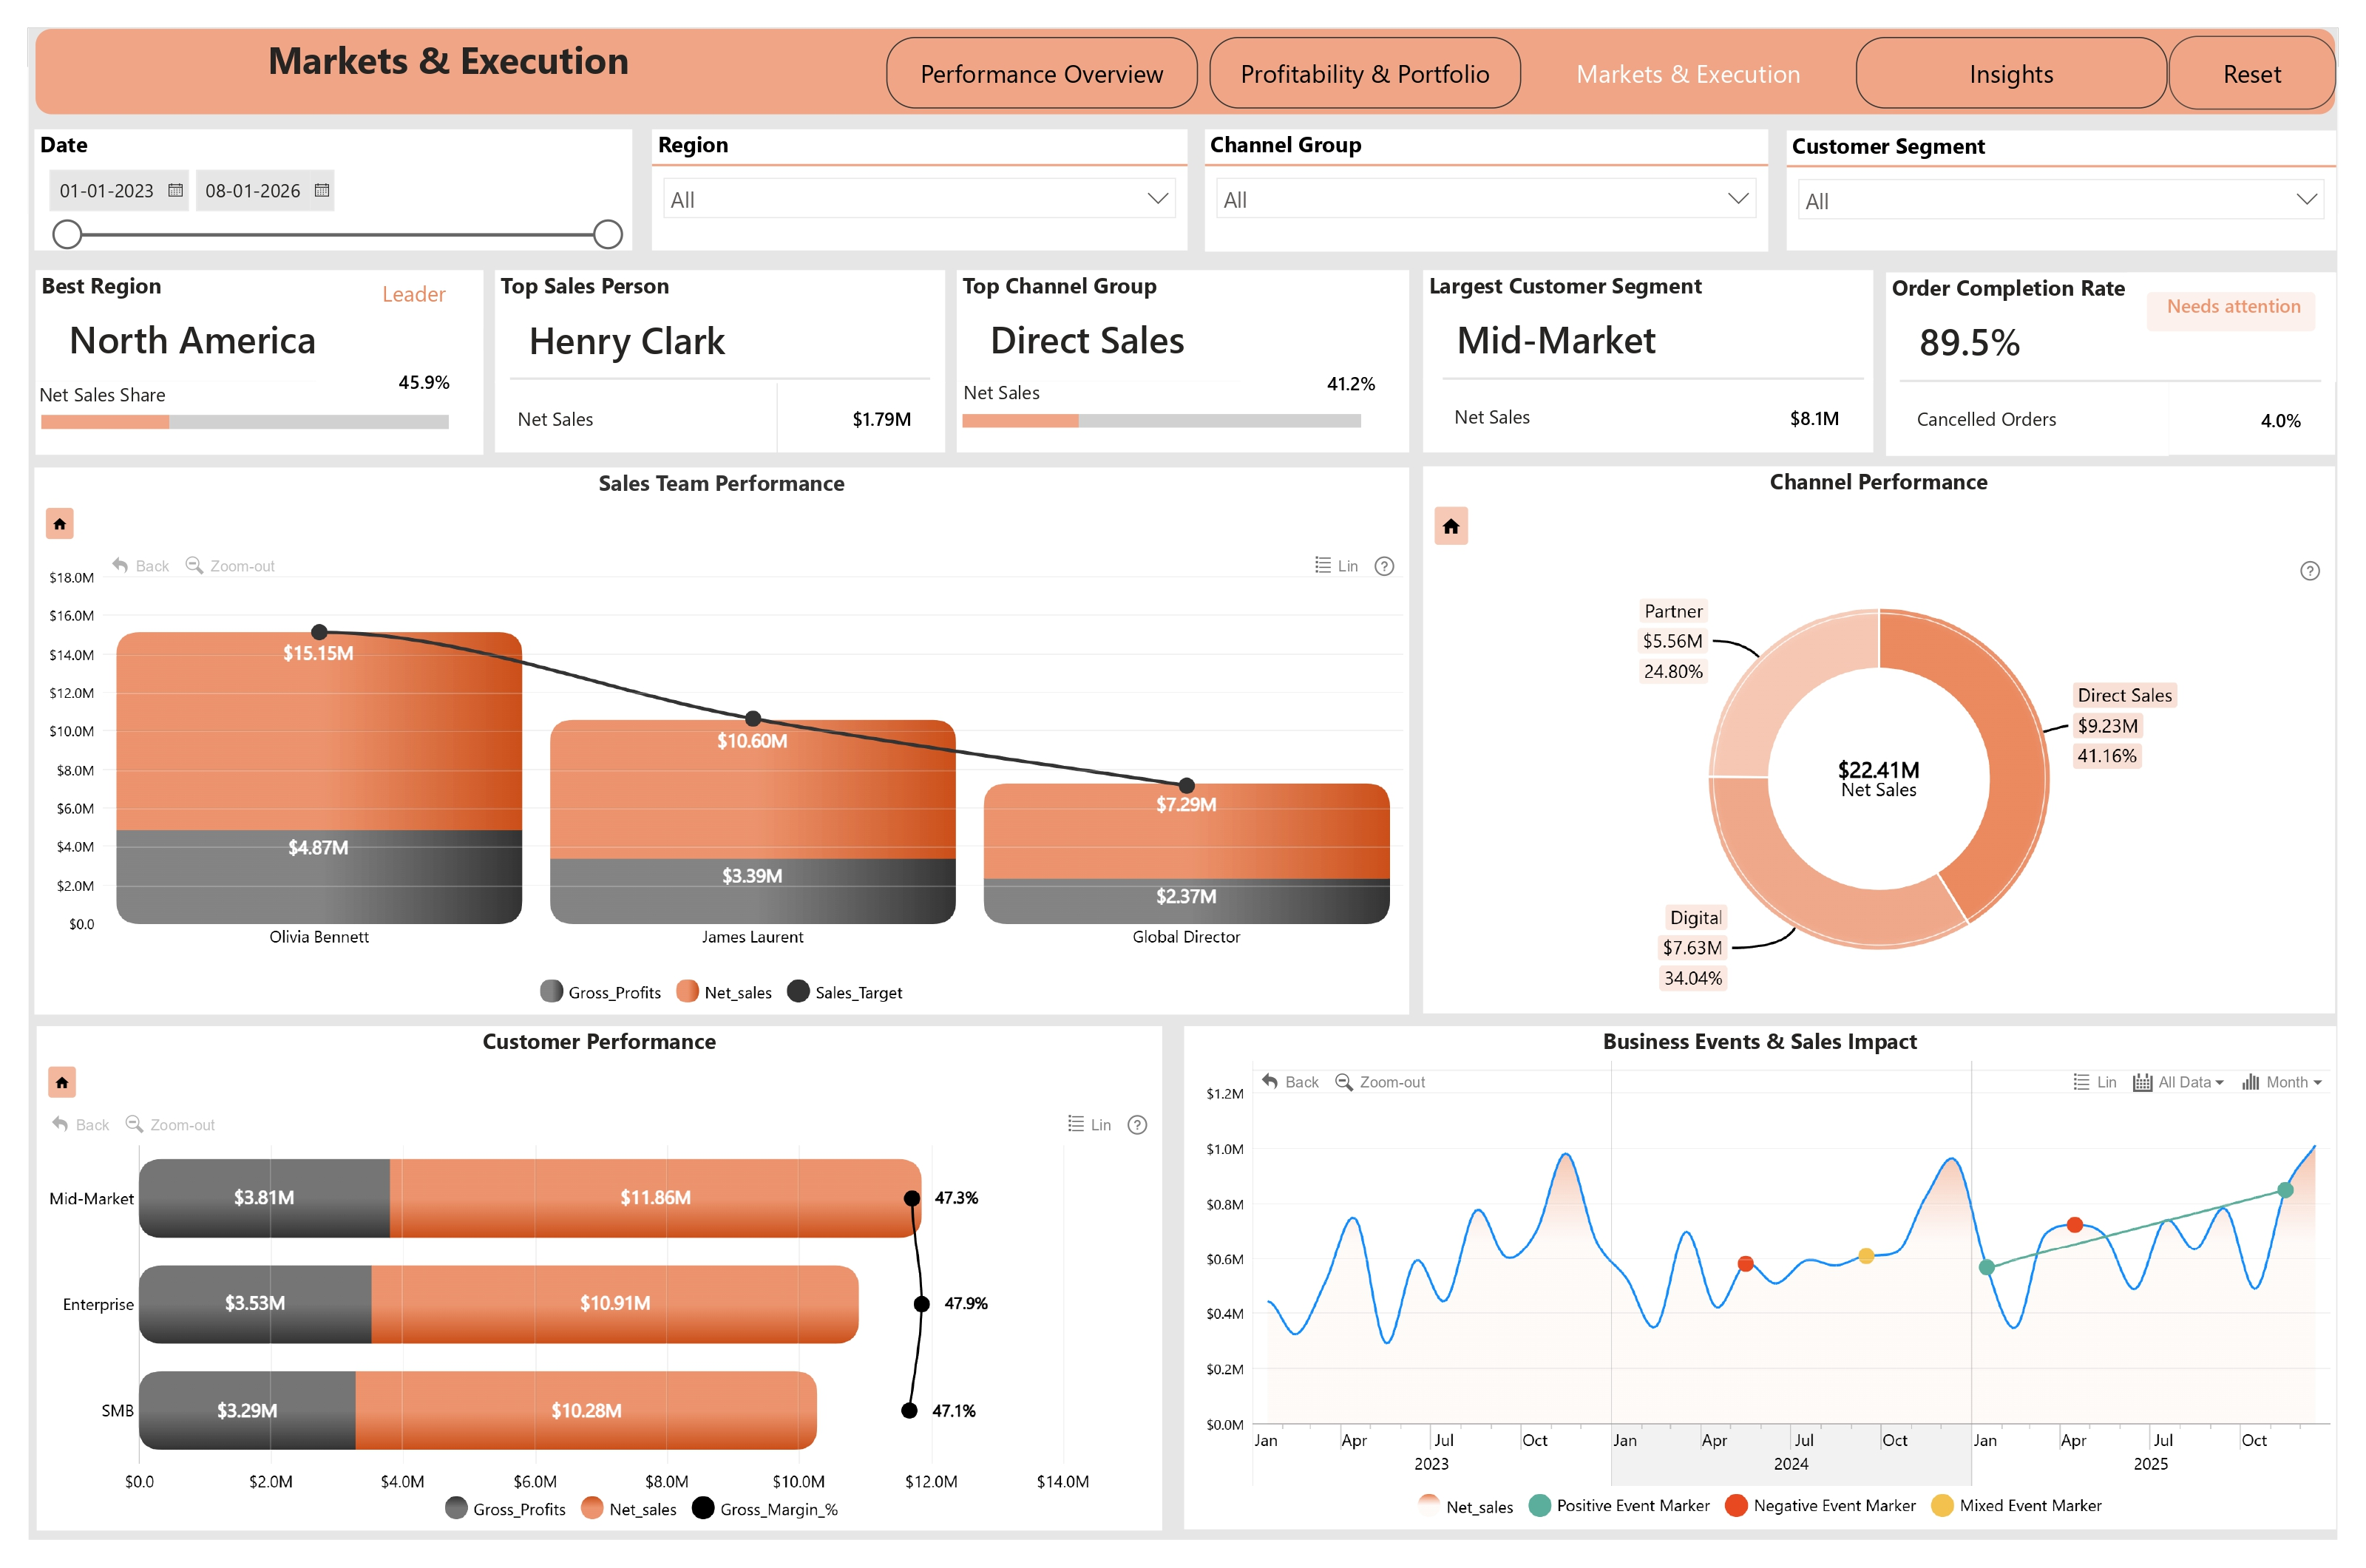

The dashboard page shown, as its layout file describes it:
{"tool":"powerbi","page":{"name":"Markets & Execution","canvas":[2000,1310],"ordinal":2},"visuals":[{"type":"cardVisual","title":"Best Region","fields":{"Data":["Key_Metrix.Top_region"]},"box":[6.5,210.1,388,96],"z":0},{"type":"barChart","fields":{"Y":["Key_Metrix.Top_Region_sales","Key_Metrix.Net_sales"]},"box":[6.5,306.1,388,64],"z":1000},{"type":"textbox","box":[3.6,302.4,140,36.7],"z":2000},{"type":"cardVisual","fields":{"Data":["Key_Metrix.Top_Region_sales_%"]},"box":[248.6,280.2,145,51.7],"z":3000},{"type":"cardVisual","title":"Top Sales Person","fields":{"Data":["Key_Metrix.Top_Sales_persons"]},"box":[404.5,210.1,390,98],"z":4000},{"type":"textbox","box":[404.5,306.1,244,62],"z":5000},{"type":"cardVisual","fields":{"Data":["Key_Metrix.Top_sales_Person_sales"]},"box":[648.9,306.6,145,61.7],"z":6000},{"type":"shape","box":[417.1,228.8,364,150],"z":7000},{"type":"cardVisual","title":"Top Channel Group","fields":{"Data":["Key_Metrix.Top_Channel"]},"box":[804.5,210.1,392,96],"z":8000},{"type":"barChart","fields":{"Y":["Key_Metrix.Top_Channel_Sales","Key_Metrix.Net_sales"]},"box":[804.5,306.1,392,62],"z":9000},{"type":"textbox","box":[804.7,300.1,140,38],"z":10000},{"type":"cardVisual","fields":{"Data":["Key_Metrix.Top_channel_sales_%"]},"box":[1050.5,280.1,146,52],"z":11000},{"type":"cardVisual","title":"Order Completion Rate","fields":{"Data":["Key_Metrix.Order_Completion_%"]},"box":[1609.1,212.4,390,95],"z":12000},{"type":"textbox","box":[1609.1,305.8,245,65],"z":13000},{"type":"cardVisual","fields":{"Data":["Key_Metrix.Cancelled_order_%"]},"box":[1854.5,306.1,144,64],"z":14000},{"type":"shape","box":[1621.3,230.8,365,150],"z":15000},{"type":"textbox","box":[274.5,212.1,120,48],"z":16000},{"type":"cardVisual","title":"Largest Customer Segment","fields":{"Data":["Key_Metrix.Top_Customer_Segment"]},"box":[1207.8,210.4,390,95],"z":17000},{"type":"textbox","box":[1208.5,304.1,248,64],"z":18000},{"type":"cardVisual","fields":{"Data":["Key_Metrix.Top_Customer_Segment_Sales"]},"box":[1453.8,304.1,144,64],"z":19000},{"type":"shape","box":[1224.7,228.8,365,150],"z":20000},{"type":"cardVisual","fields":{"Data":["Key_Metrix.Order_attention"]},"box":[1818.5,212.1,180,68],"z":21000},{"type":"ZoomChartsFacetChartPaidE77E4ED357DC402ABA005987437CF500","title":"Sales Team Performance","fields":{"Category":["DimSalesperson.SalesDirector","DimSalesperson.Manager","DimSalesperson.Salesperson"],"Values3":["Key_Metrix.Sales_Target"],"Values1":["Key_Metrix.Gross_Profits"],"Values2":["Key_Metrix.Net_sales"]},"box":[4.9,380.7,1191.3,474],"z":22000},{"type":"ZoomChartsPieChartPaidE77E4ED357DC402ABA005987437CF500","title":"Channel Performance","fields":{"Category":["DimChannel.ChannelGroup","DimChannel.Channel"],"Values":["Key_Metrix.Net_sales"],"kpiValue":["Key_Metrix.Net_sales"],"kpiContent":["Key_Metrix.KPI_Level"]},"box":[1208.5,380.1,790,474],"z":23000},{"type":"ZoomChartsDrillDownComboBarProE77E4ED357DC402ABA005987437CF8","title":"Customer Performance","fields":{"Category":["DimCustomer.CustomerSegment","DimCustomer.Industry","DimCustomer.CustomerName"],"Values2":["Key_Metrix.Net_sales"],"Values1":["Key_Metrix.Gross_Profits"],"Values3":["Key_Metrix.Gross_Margin_%"]},"box":[7.4,864.6,975.1,437.2],"z":24000},{"type":"ZoomChartsDrillDownTimelinePro7F6C01BA1C534E9AB4A6BCCB44F591","title":"Business Events & Sales Impact","fields":{"Category":["DimDate.Date.Variation.Date Hierarchy.Year","DimDate.Date.Variation.Date Hierarchy.Quarter","DimDate.Date.Variation.Date Hierarchy.Month"],"DateValue":["Min(DimDate.Date)"],"Values1":["Key_Metrix.Net_sales"],"Values2":["Key_Metrix.Positive_Event_Marker"],"Values3":["Key_Metrix.Negative_Event_Marker"],"Values4":["Key_Metrix.Mixed_Event_Marker"],"tooltipContent":["Key_Metrix.Business Event Tooltip","Key_Metrix.Business Event Explanation","Key_Metrix.Business Event Region"]},"box":[1000.6,865.4,998.1,435.5],"z":25000},{"type":"slicer","title":"Date","fields":{"Values":["DimDate.Date"]},"box":[4.9,88,518.1,105.1],"z":26000},{"type":"slicer","title":"Region","fields":{"Values":["DimGeography.Region"]},"box":[540.1,88,464.4,105.1],"z":27000},{"type":"slicer","title":"Channel Group","fields":{"Values":["DimChannel.ChannelGroup"]},"box":[1018.8,88.4,488.5,105.6],"z":28000},{"type":"slicer","title":"Customer Segment","fields":{"Values":["DimCustomer.CustomerSegment"]},"box":[1523,88.9,476.4,103.7],"z":29000},{"type":"textbox","box":[4.9,0,1993.8,75.8],"z":30000},{"type":"textbox","box":[4.9,0,716.8,75.8],"z":31000},{"type":"pageNavigator","box":[742.5,7.5,1112.5,62.5],"z":32000},{"type":"actionButton","box":[1854.4,7.3,144.3,63.6],"z":33000}]}

Visuals, with their boxes on the page's 2000x1310 design canvas (x1, y1, x2, y2). These are canvas units, not pixel positions in the 2366x1568 screenshot, which may show the page scaled, cropped or inside an application window:
"Best Region" cardVisual: [6, 210, 394, 306]
barChart - Key_Metrix.Top_Region_sales x Key_Metrix.Net_sales: [6, 306, 394, 370]
textbox: [4, 302, 144, 339]
cardVisual - Key_Metrix.Top_Region_sales_%: [249, 280, 394, 332]
"Top Sales Person" cardVisual: [404, 210, 794, 308]
textbox: [404, 306, 648, 368]
cardVisual - Key_Metrix.Top_sales_Person_sales: [649, 307, 794, 368]
shape: [417, 229, 781, 379]
"Top Channel Group" cardVisual: [804, 210, 1196, 306]
barChart - Key_Metrix.Top_Channel_Sales x Key_Metrix.Net_sales: [804, 306, 1196, 368]
textbox: [805, 300, 945, 338]
cardVisual - Key_Metrix.Top_channel_sales_%: [1050, 280, 1196, 332]
"Order Completion Rate" cardVisual: [1609, 212, 1999, 307]
textbox: [1609, 306, 1854, 371]
cardVisual - Key_Metrix.Cancelled_order_%: [1854, 306, 1998, 370]
shape: [1621, 231, 1986, 381]
textbox: [274, 212, 394, 260]
"Largest Customer Segment" cardVisual: [1208, 210, 1598, 305]
textbox: [1208, 304, 1456, 368]
cardVisual - Key_Metrix.Top_Customer_Segment_Sales: [1454, 304, 1598, 368]
shape: [1225, 229, 1590, 379]
cardVisual - Key_Metrix.Order_attention: [1818, 212, 1998, 280]
"Sales Team Performance" ZoomChartsFacetChartPaidE77E4ED357DC402ABA005987437CF500: [5, 381, 1196, 855]
"Channel Performance" ZoomChartsPieChartPaidE77E4ED357DC402ABA005987437CF500: [1208, 380, 1998, 854]
"Customer Performance" ZoomChartsDrillDownComboBarProE77E4ED357DC402ABA005987437CF8: [7, 865, 982, 1302]
"Business Events & Sales Impact" ZoomChartsDrillDownTimelinePro7F6C01BA1C534E9AB4A6BCCB44F591: [1001, 865, 1999, 1301]
"Date" slicer: [5, 88, 523, 193]
"Region" slicer: [540, 88, 1004, 193]
"Channel Group" slicer: [1019, 88, 1507, 194]
"Customer Segment" slicer: [1523, 89, 1999, 193]
textbox: [5, 0, 1999, 76]
textbox: [5, 0, 722, 76]
pageNavigator: [742, 8, 1855, 70]
actionButton: [1854, 7, 1999, 71]
